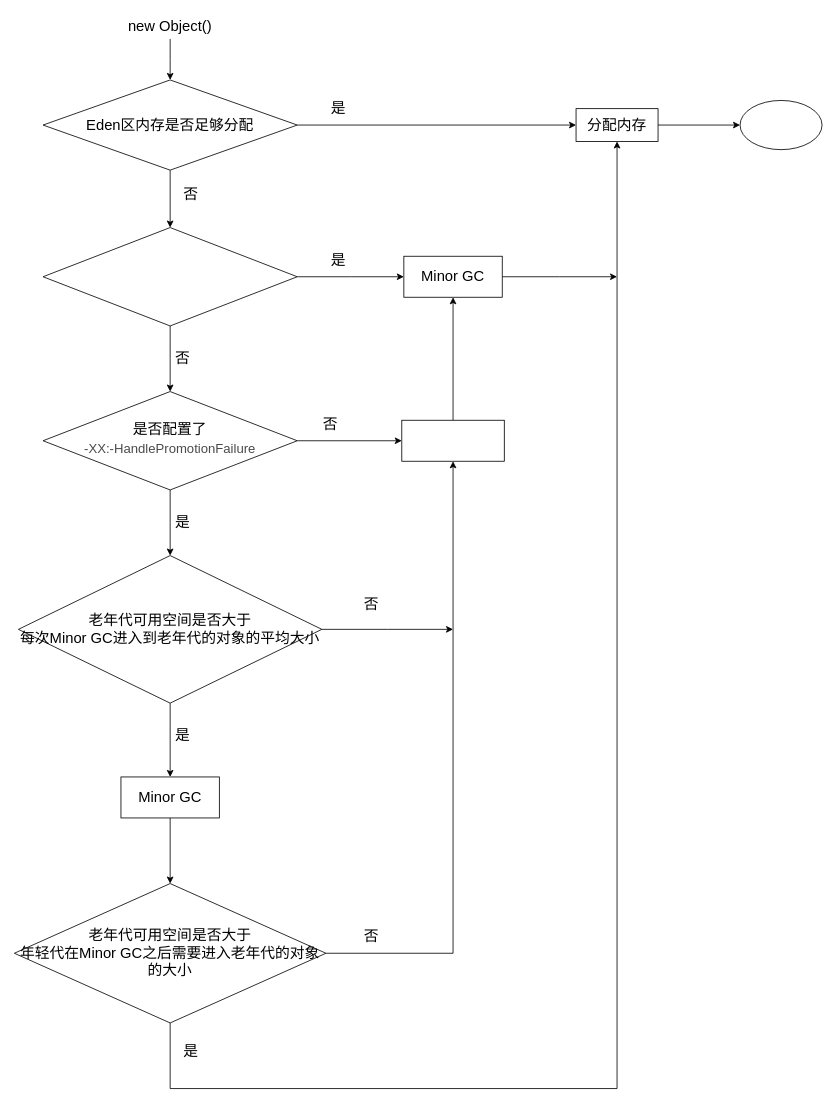
This 836x1109 diagram has some shape labels left out. The shapes that lost their labels are listed below. From the top down, each one's centre as x and y in pixels, then its label:
the point at 780,125: 结束
the point at 169,276: 老年代可用空间是否大于 年轻代所有对象的大小
the point at 452,440: Full GC
